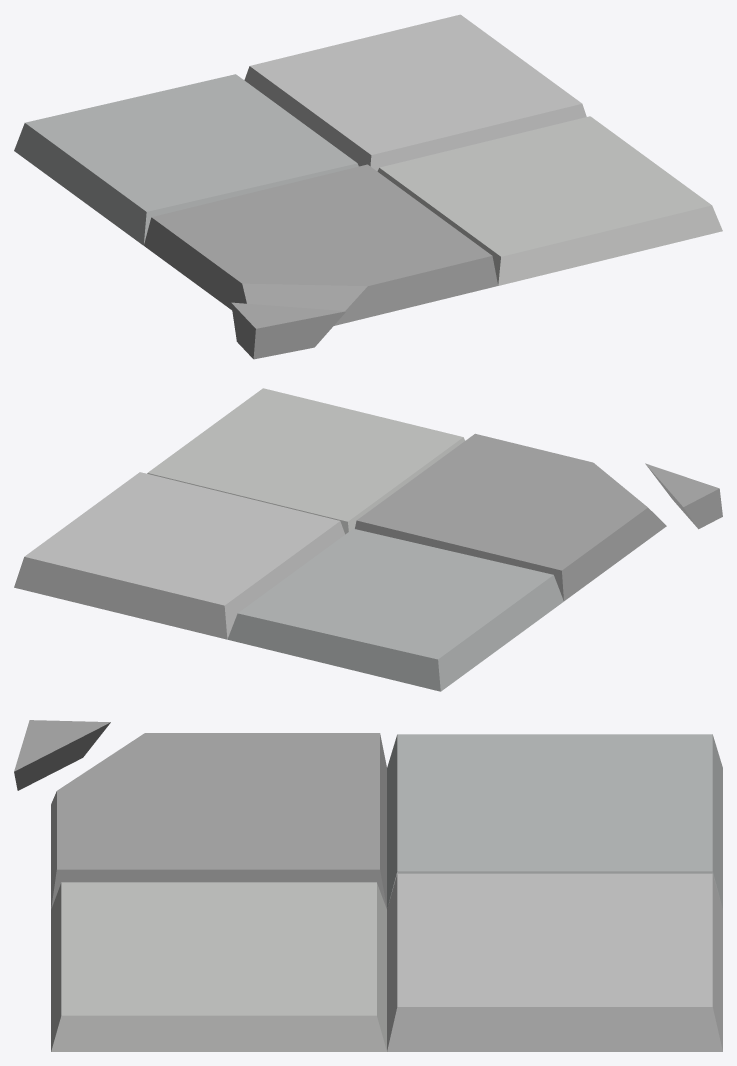
File: Rock_Tiles_m_05.fbx
3 views of the same model, one above another, from view 1: azimuth 30°, elevation 25°; view 2: azimuth 150°, elevation 25°; view 3: azimuth 270°, elevation 25° (orthographic). The views are drawn at different scales.
Visible parts, largest first — view 1: Rock_Tiles_m_05; view 2: Rock_Tiles_m_05; view 3: Rock_Tiles_m_05.
Part boxes in pixels (box(x1,y1,x2,y2)): Rock_Tiles_m_05: box(14, 14, 722, 359); Rock_Tiles_m_05: box(14, 388, 722, 691); Rock_Tiles_m_05: box(14, 720, 722, 1051).
Size of the model in its own units: 85.13 by 6.19 by 84.42.
